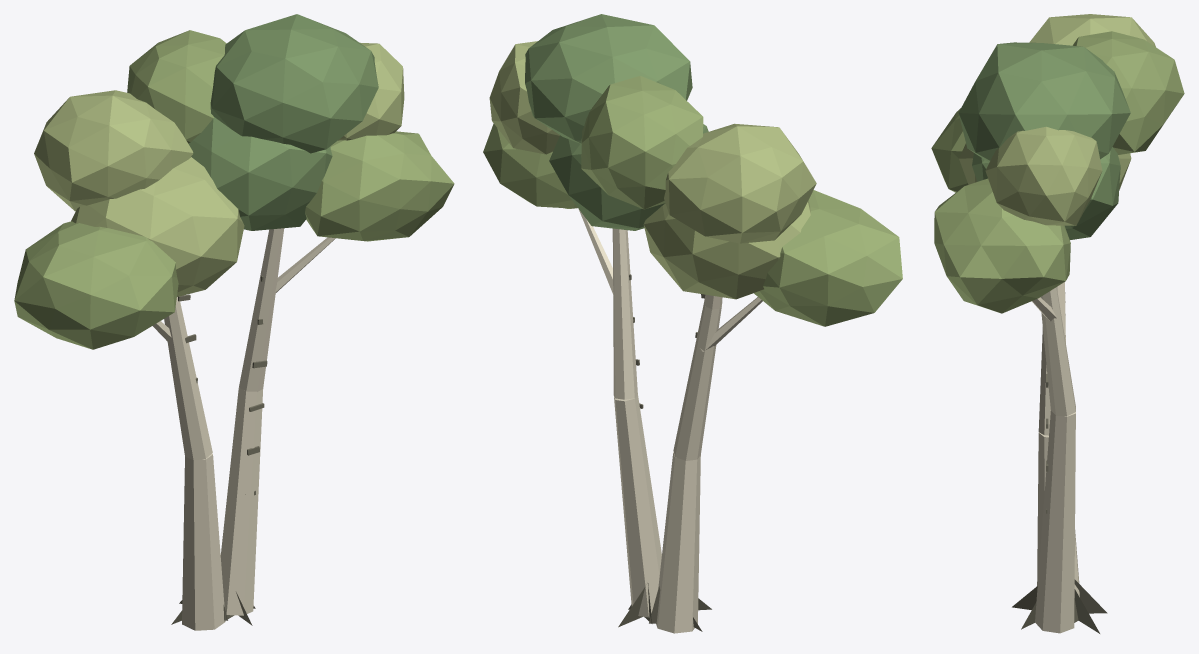
Rendered from birch.glb.
3 views of the same model, side by side, from view 1: azimuth 30°, elevation 25°; view 2: azimuth 150°, elevation 25°; view 3: azimuth 270°, elevation 25° (orthographic). The views are drawn at different scales.
Visible parts, largest first — view 1: foliage-0, foliage-1, foliage-2, surface; view 2: foliage-0, foliage-1, surface, foliage-2; view 3: foliage-0, foliage-2, surface, foliage-1.
Boxes of the visible parts, x1,y1,x2,y2 form: foliage-0: [14, 30, 454, 349]; foliage-1: [34, 42, 404, 296]; foliage-2: [188, 14, 378, 230]; surface: [153, 228, 335, 630]; foliage-0: [483, 76, 902, 326]; foliage-1: [489, 41, 816, 299]; surface: [578, 209, 762, 633]; foliage-2: [525, 14, 708, 230]; foliage-0: [931, 31, 1184, 313]; foliage-2: [958, 42, 1130, 239]; surface: [1012, 282, 1107, 633]; foliage-1: [959, 14, 1155, 225].
Size of the model in its own units: 5.34 by 7.11 by 2.69.
